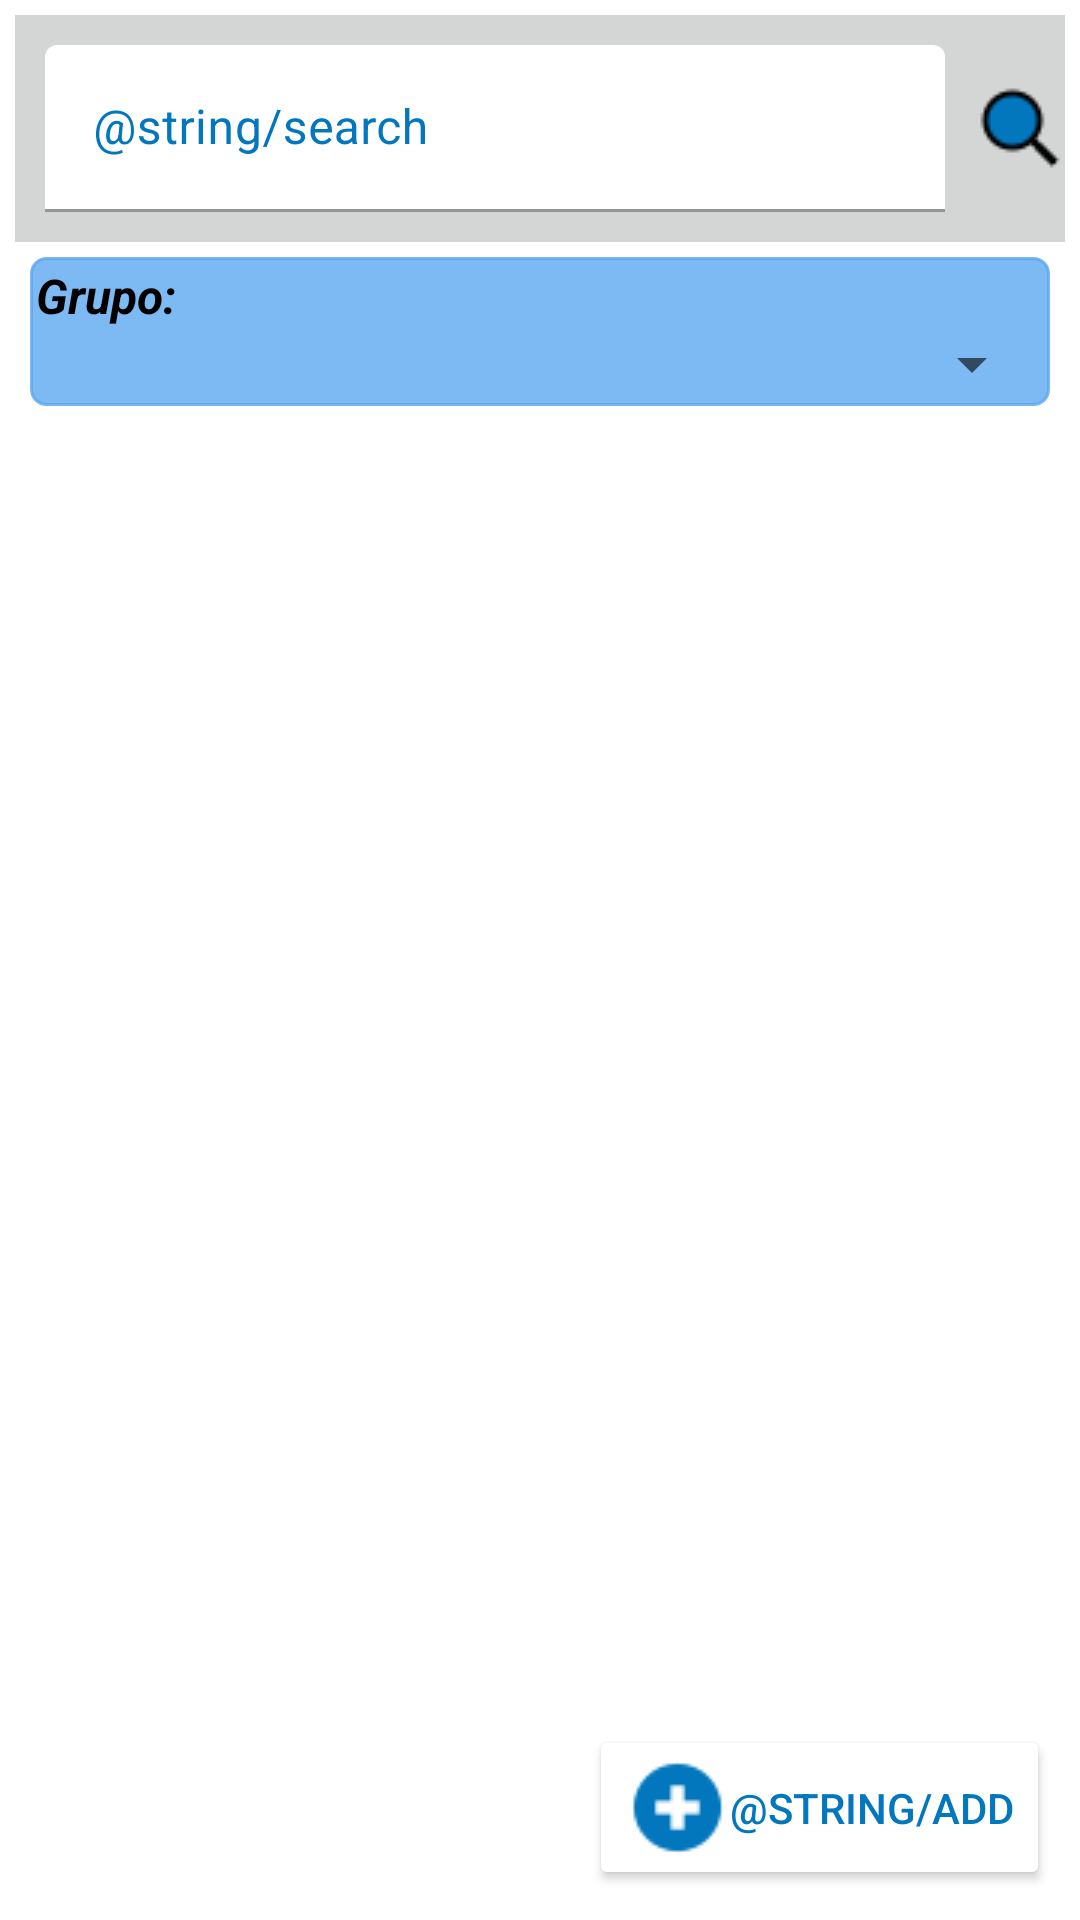

Screen size 1080*1920. Icon name, then its center in pixels as point (x, y):
search: point (1020, 128)
